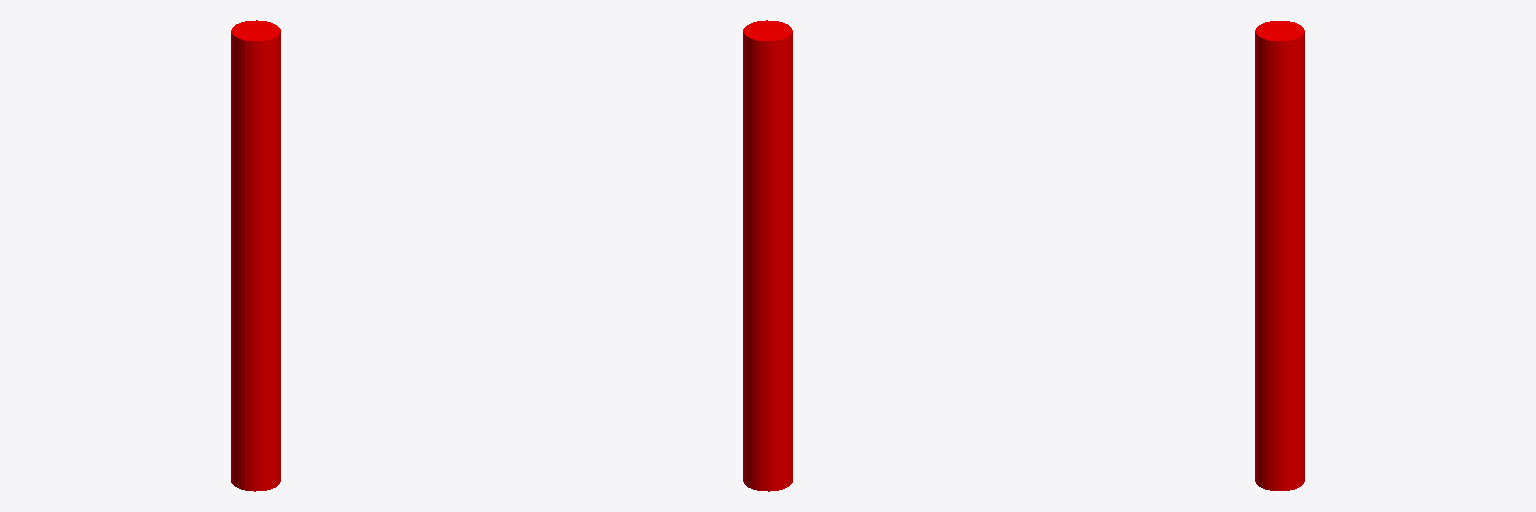
robot.urdf — small_cylinder:
<?xml version="1.0"?>
<robot name="small_cylinder">
  <link name="cylinder_link">
    <visual>
      <origin xyz="0 0 0.5" rpy="0 0 0"/>
      <geometry>
        <cylinder radius="0.05" length="1"/>
      </geometry>
      <material name="red">
        <color rgba="1 0 0 1"/>
      </material>
    </visual>
    <collision>
      <origin xyz="0 0 0" rpy="0 0 0"/>
      <geometry>
        <cylinder radius="0.05" length="0.1"/>
      </geometry>
    </collision>
    <inertial>
      <mass value="0.1"/>
      <origin xyz="0 0 0"/>
      <inertia ixx="0.00025" ixy="0.0" ixz="0.0" iyy="0.00025" iyz="0.0" izz="0.0005"/>
    </inertial>
  </link>

  <gazebo>
    <static>false</static>
  </gazebo>

  <gazebo reference="cylinder_link">
    <material>Gazebo/Red</material>
  </gazebo>
</robot>

--- What the picture shows (computed from the rendered views, not written in the file) ---
Views: 3 orthographic renders of the robot side by side, from view 1: azimuth 30°, elevation 25°; view 2: azimuth 150°, elevation 25°; view 3: azimuth 270°, elevation 25°.
Model small_cylinder with 1 links and 0 joints (none), rooted at cylinder_link, posed all joints at 0.
Visible links, largest first — view 1: cylinder_link; view 2: cylinder_link; view 3: cylinder_link.
Link boxes in pixels (x1,y1,x2,y2): cylinder_link: (231, 20, 280, 491); cylinder_link: (743, 20, 792, 491); cylinder_link: (1255, 21, 1304, 490).
Bounding box of the posed robot: 0.1 × 0.1 × 1 m (x, y, z).
Geometry: primitives only (box / cylinder / sphere), no mesh files.